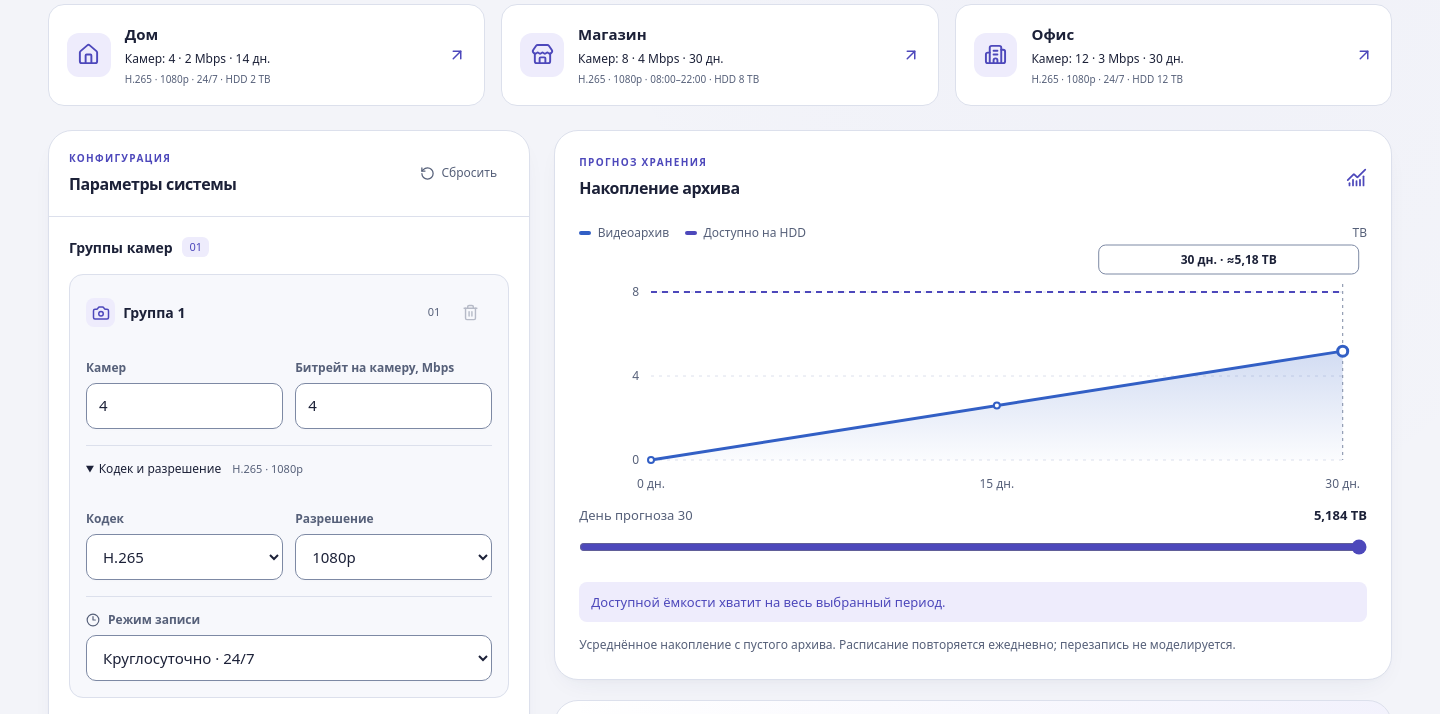
Test: calculator interactions › blocks invalid count 1.5 and restores results after correction
(page scrolled)
Replace the text in the field labelled "Камер" with "1.5" at {"x": 185, "y": 406}, box [86,383,283,429]
(page scrolled)
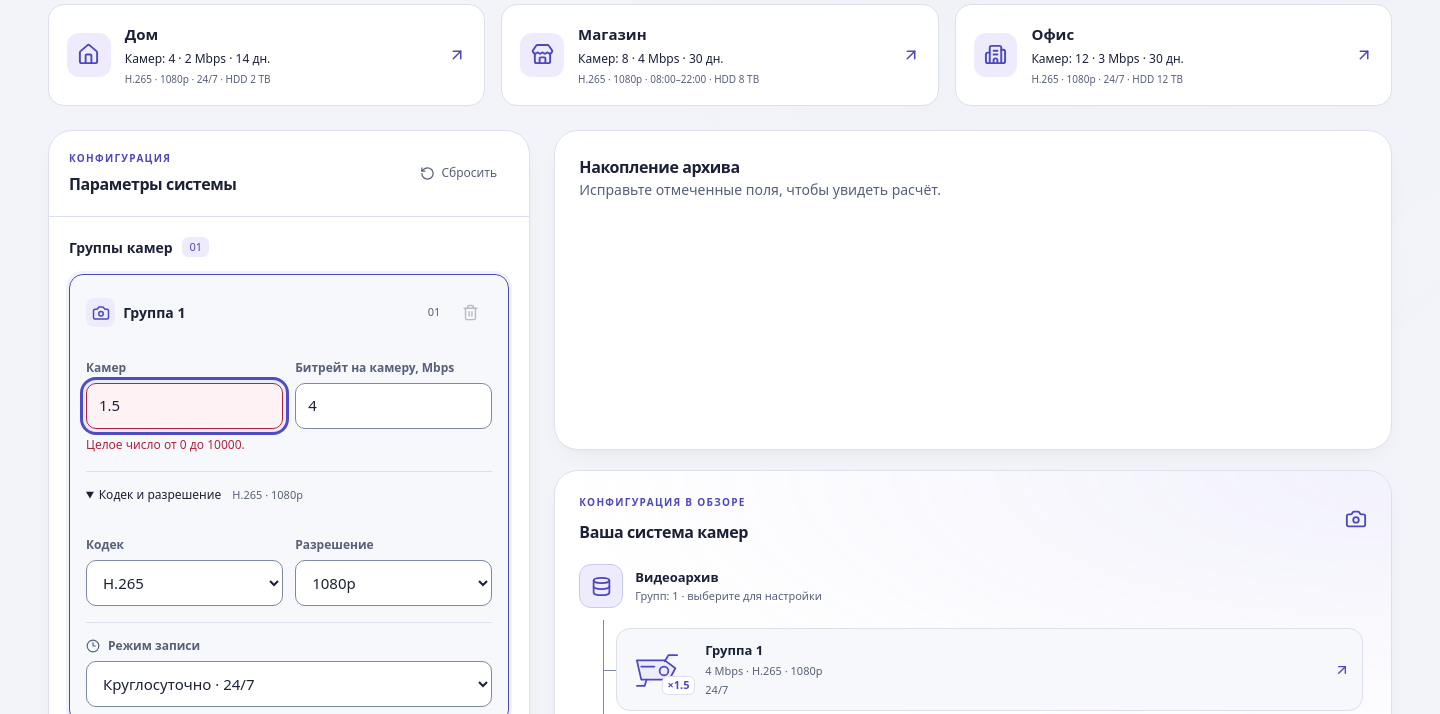
Now the message "Целое число от 0 до 10000." is shown, box [86,436,245,453]
Replace the text in the field labelled "Камер" with "1" at {"x": 185, "y": 406}, box [86,383,283,429]
(page scrolled)
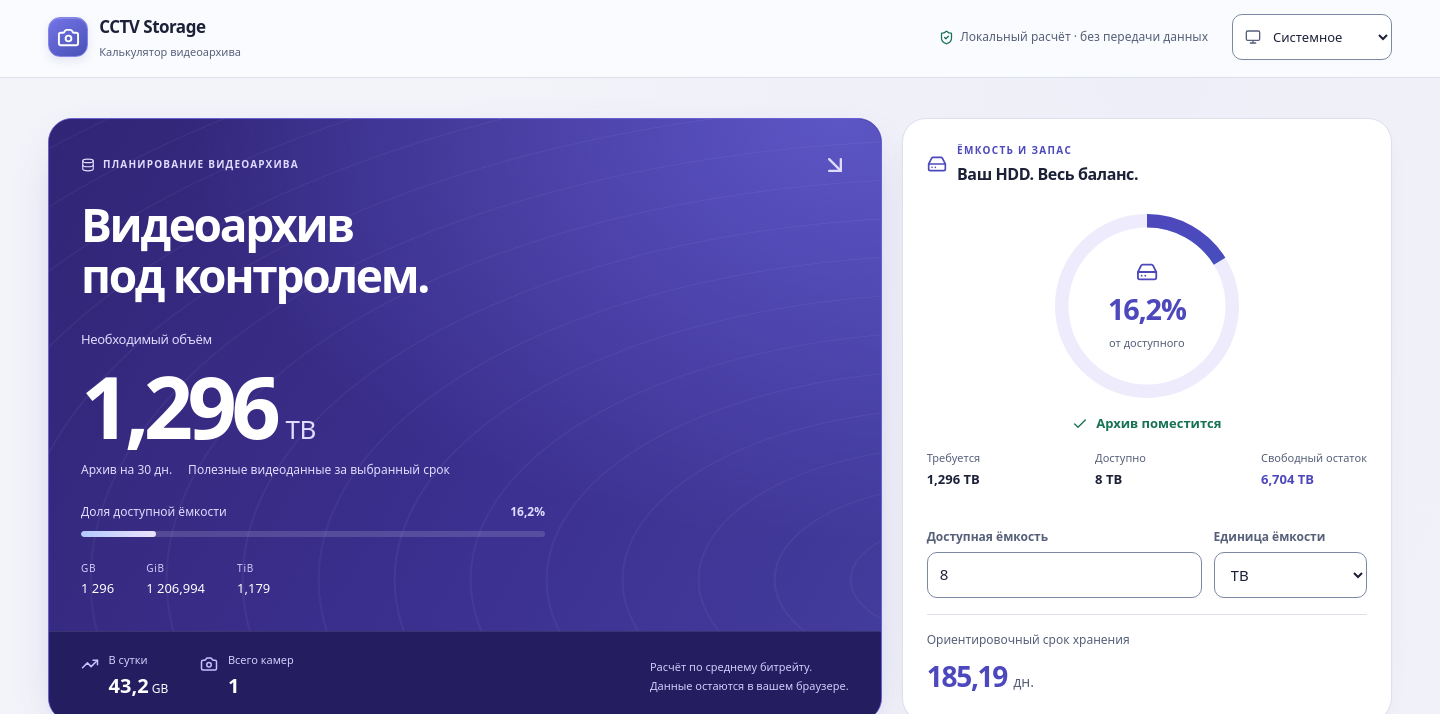
Now the element with test id "total-tb" shows "1,296", box [81,347,275,464]
